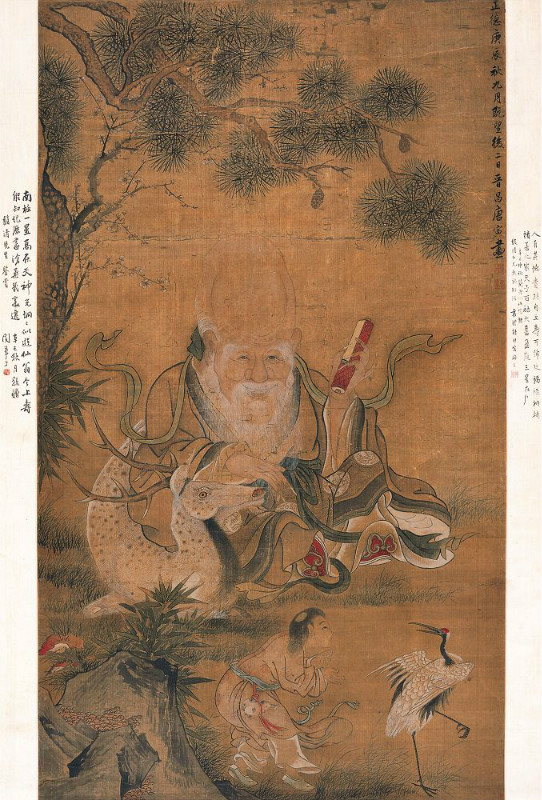crane: (378, 618, 486, 800)
decoration: (333, 321, 371, 386)
deer: (81, 453, 268, 612)
kid: (225, 612, 340, 783)
man: (160, 261, 403, 455), (278, 460, 460, 572)
tree: (168, 111, 466, 259), (40, 1, 300, 116), (33, 142, 92, 476), (298, 71, 423, 111)
